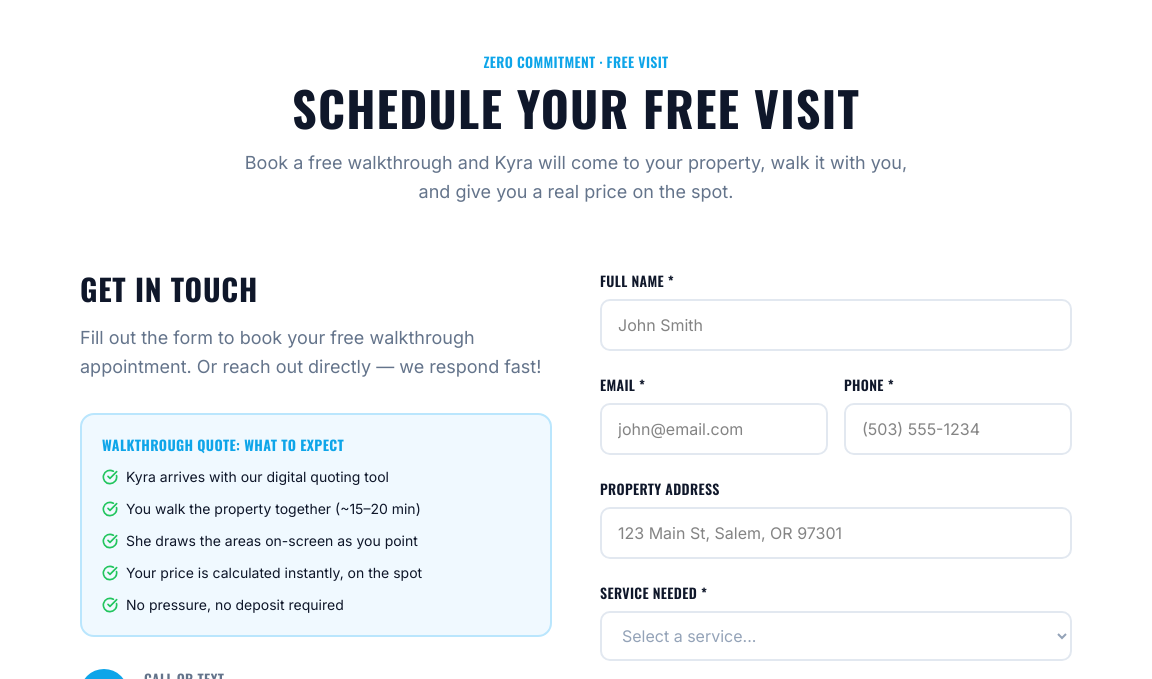
ContactForm — required field validation › shows "Name is required" when name is empty
The width and height of the screenshot is (1152, 679).
In the field labelled "Email *": coordinates (714, 428) [600,402,828,454], type "jane@example.com"
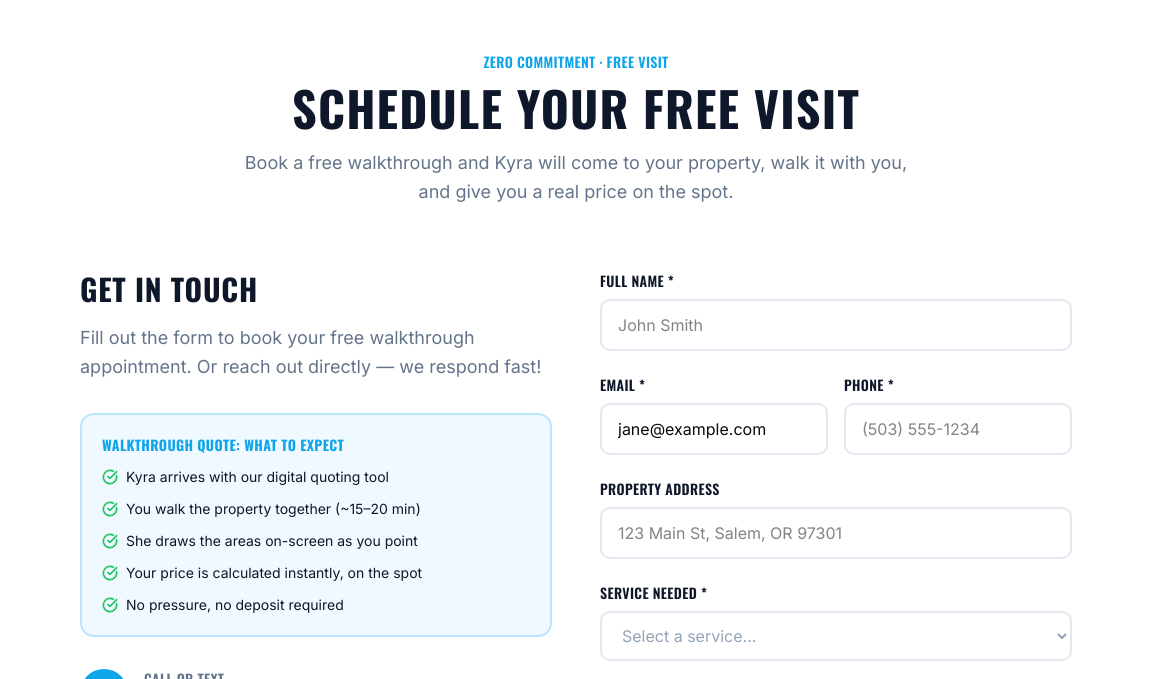
In the field labelled "Phone *": coordinates (958, 428) [844,402,1072,454], type "5035551234"
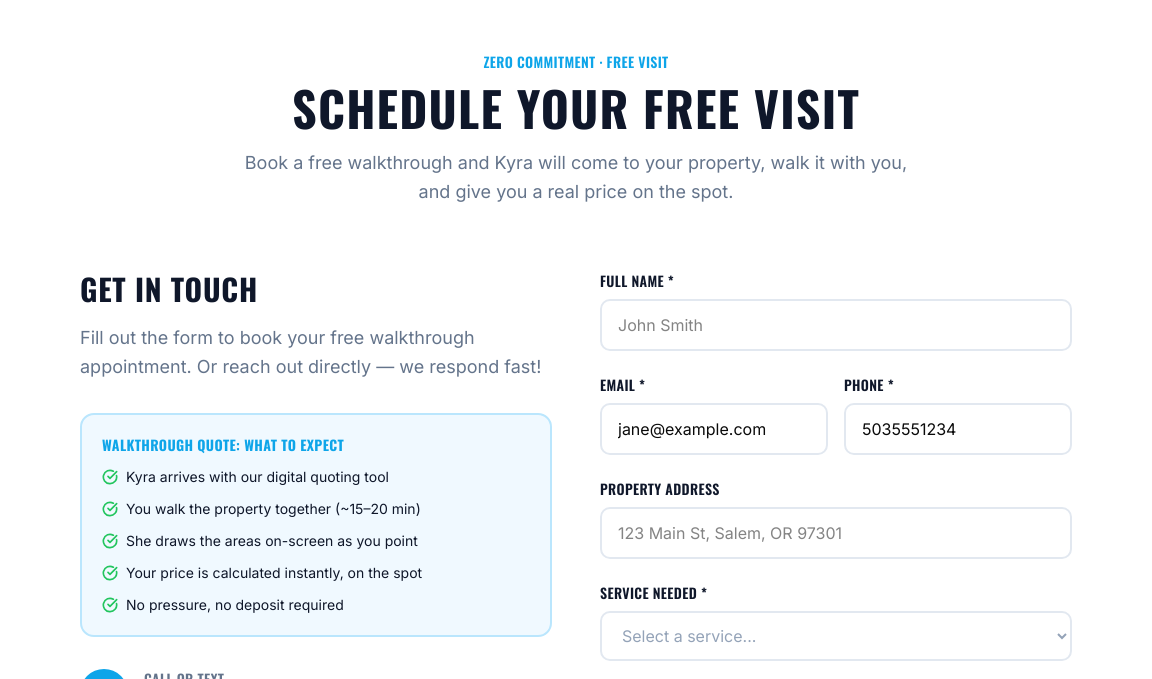
Select "Soft Washing (Siding)" in the dropdown labelled "Service Needed *": coordinates (836, 636) [600,610,1072,660]
(page scrolled)
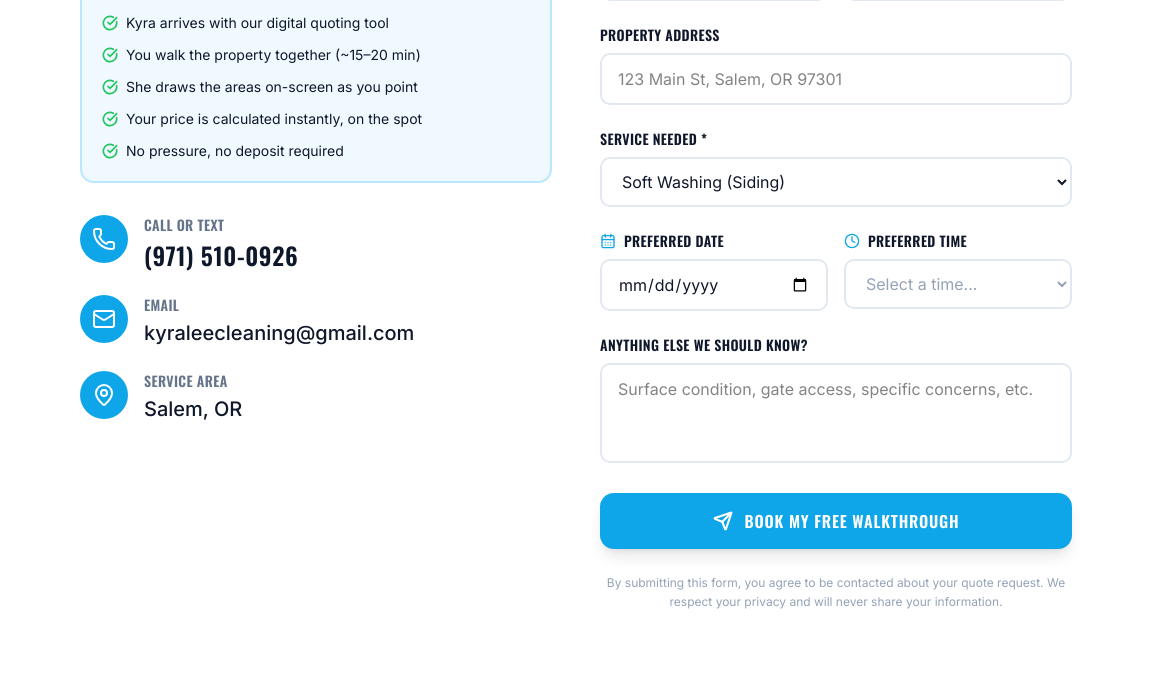
Click the button "Book My Free Walkthrough": coordinates (836, 520) [600,492,1072,548]
(page scrolled)
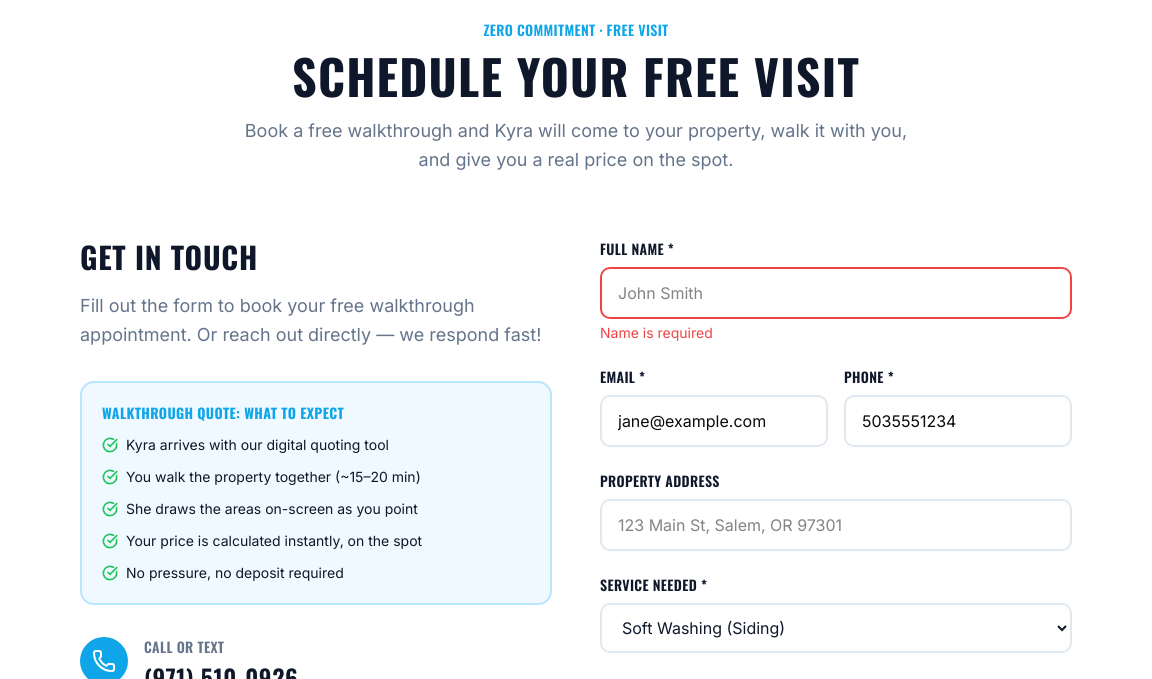
expect the text "Name is required" is shown: met, box [600,324,713,340]
